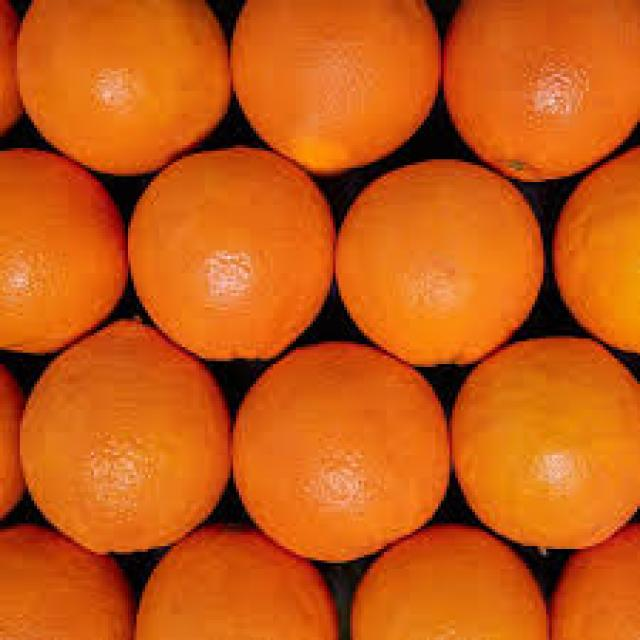orange: (21, 322, 227, 555), (127, 147, 346, 366), (237, 342, 444, 560), (338, 158, 540, 367), (453, 336, 637, 549), (21, 1, 228, 174), (235, 0, 436, 175), (448, 0, 634, 179), (5, 150, 126, 352), (143, 529, 338, 635), (357, 529, 544, 635), (560, 149, 638, 354), (3, 529, 129, 637)
